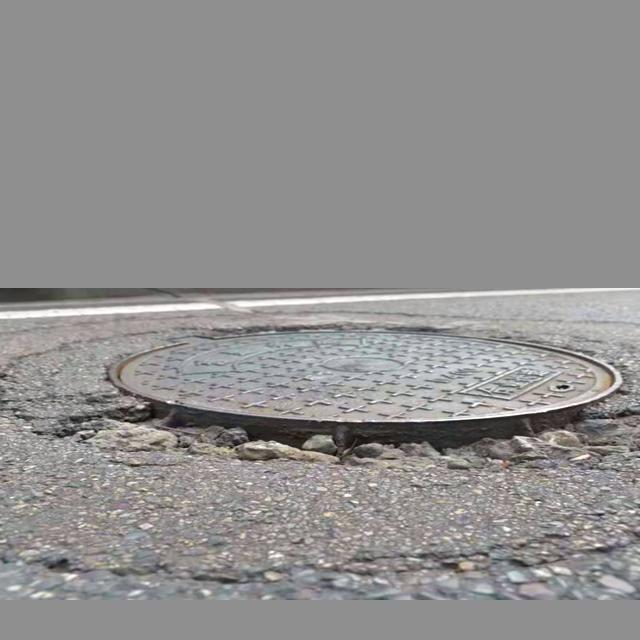circle: (0, 311, 640, 501)
